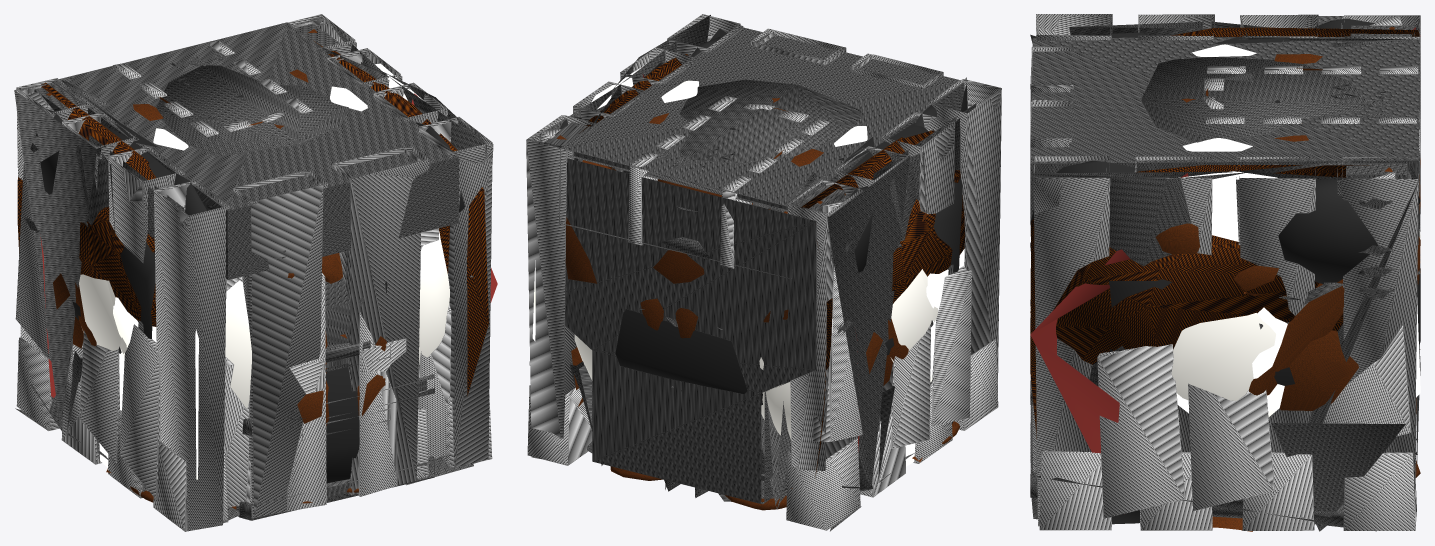
File: freddy.glb
3 renders of one model, left to right at view 1: azimuth 30°, elevation 25°; view 2: azimuth 150°, elevation 25°; view 3: azimuth 270°, elevation 25°, orthographic. The views are drawn at different scales.
Parts seen in each view (by area): view 1: cabeza, mandibula, cuerpo; view 2: cabeza, mandibula, cuerpo; view 3: cabeza, mandibula, cuerpo.
Boxes of the visible parts, bbox=[...] form: cabeza: bbox=[15, 14, 497, 531]; mandibula: bbox=[14, 17, 459, 511]; cuerpo: bbox=[70, 61, 365, 509]; cabeza: bbox=[526, 14, 1001, 531]; mandibula: bbox=[529, 27, 971, 509]; cuerpo: bbox=[608, 28, 967, 510]; cabeza: bbox=[1030, 14, 1420, 531]; mandibula: bbox=[1030, 15, 1420, 531]; cuerpo: bbox=[1030, 34, 1420, 477].
Bounding box in the file's own units: 65535 × 65535 × 65535.
Materials: 18 (12 with a texture image).
